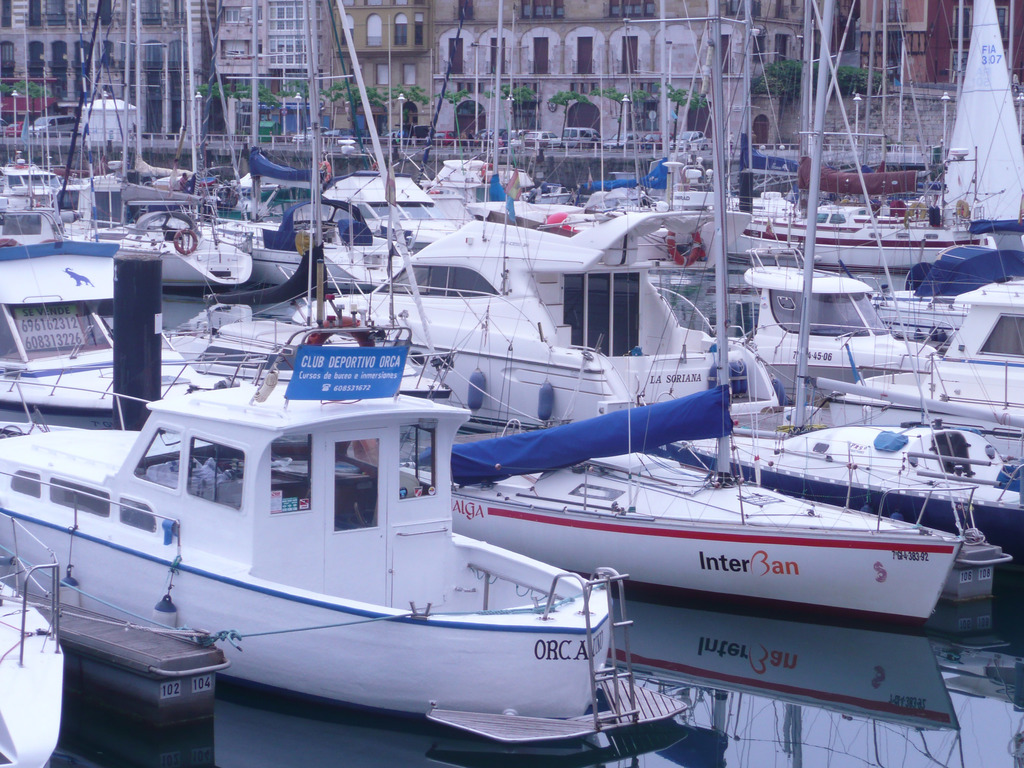boat: (1, 302, 710, 762), (432, 390, 979, 666), (225, 186, 789, 440), (677, 402, 1024, 557), (1, 205, 213, 436), (714, 162, 1009, 282), (695, 254, 933, 397), (39, 175, 259, 307), (842, 275, 1024, 404), (233, 200, 407, 293), (337, 161, 454, 254)
